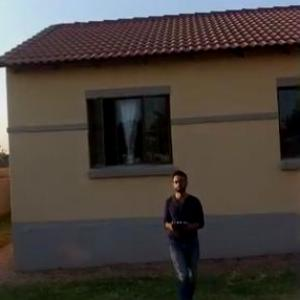follow: (153, 169, 209, 299)
